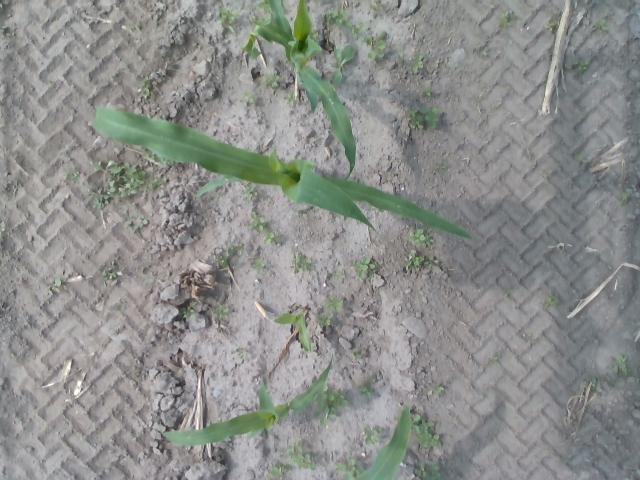Maize: (92, 106, 473, 240), (242, 0, 355, 181), (160, 353, 332, 447), (357, 405, 412, 480), (274, 312, 312, 356)
Weeds: (89, 156, 170, 210), (316, 383, 350, 426), (326, 8, 364, 40), (412, 413, 443, 448), (284, 439, 318, 470), (405, 103, 441, 130), (333, 44, 356, 86), (214, 243, 244, 268), (332, 456, 363, 480), (402, 251, 440, 270), (411, 459, 440, 480), (367, 30, 387, 60), (124, 214, 150, 237), (352, 256, 376, 280), (608, 354, 631, 378), (219, 5, 238, 34), (290, 252, 314, 274), (408, 228, 436, 246), (268, 460, 292, 480), (100, 265, 122, 286), (564, 57, 592, 73), (542, 290, 562, 312), (408, 49, 426, 73), (359, 373, 376, 398), (360, 426, 381, 446), (178, 300, 198, 321), (247, 211, 266, 232), (64, 167, 84, 186), (137, 76, 155, 96), (249, 256, 269, 274), (48, 278, 68, 296), (499, 10, 518, 28), (324, 294, 344, 311), (393, 41, 406, 65), (369, 0, 386, 18), (314, 311, 333, 327), (263, 72, 281, 88), (254, 0, 274, 14), (434, 158, 448, 178), (213, 304, 230, 320), (542, 19, 560, 34), (262, 230, 280, 245), (242, 186, 258, 202), (242, 92, 260, 106), (228, 347, 246, 359), (284, 91, 298, 106), (111, 299, 128, 310), (596, 18, 609, 32), (332, 267, 346, 280), (617, 192, 629, 207), (428, 385, 444, 396), (293, 208, 310, 218), (141, 149, 156, 160), (422, 86, 433, 100), (0, 0, 12, 10), (576, 154, 588, 164), (506, 287, 515, 299), (539, 170, 549, 180), (590, 375, 598, 387), (354, 351, 362, 363), (482, 46, 489, 59), (83, 20, 93, 29), (552, 10, 561, 19), (490, 356, 500, 364), (523, 332, 533, 340), (0, 24, 6, 34), (604, 374, 610, 382), (0, 124, 5, 130)
